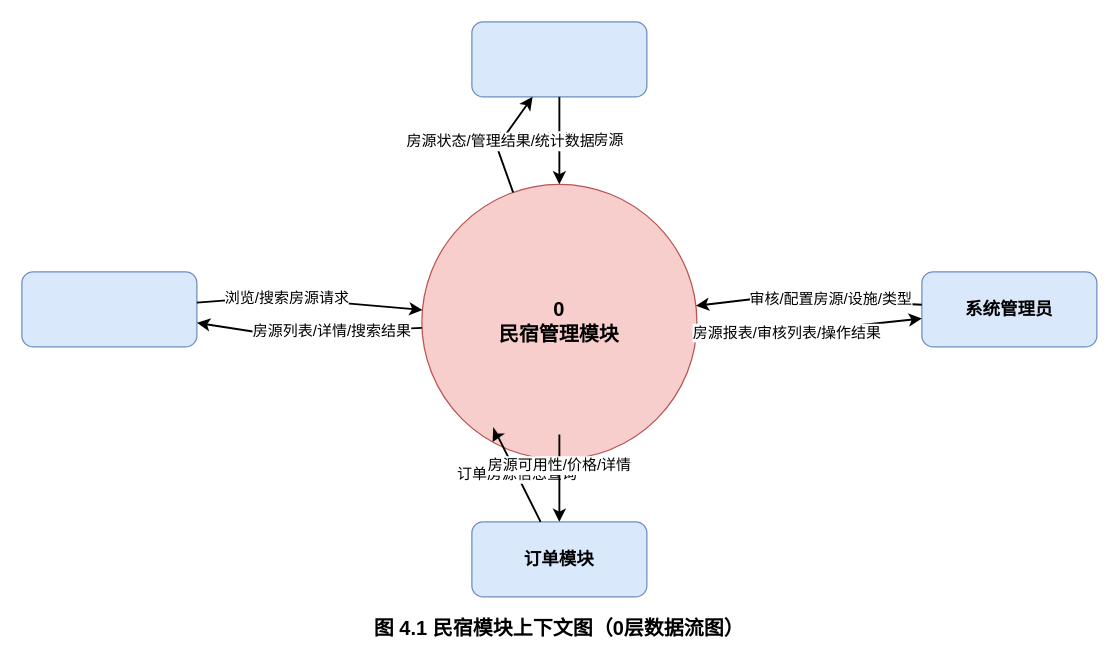
This 1119x669 diagram has some shape labels left out. The shapes that lost their labels are listed below. From the top down, each one's centre as x and y in pixels, then its label:
At (559,59): "房东".
At (109,309): "普通用户".
